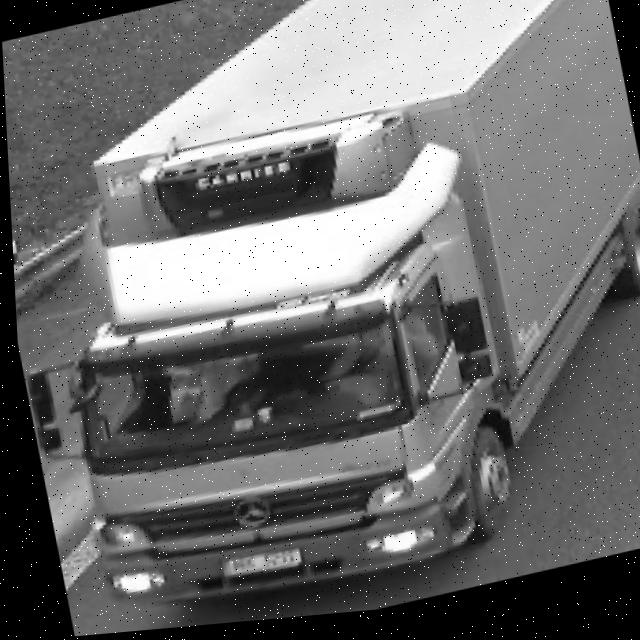truck: (7, 106, 554, 640)
